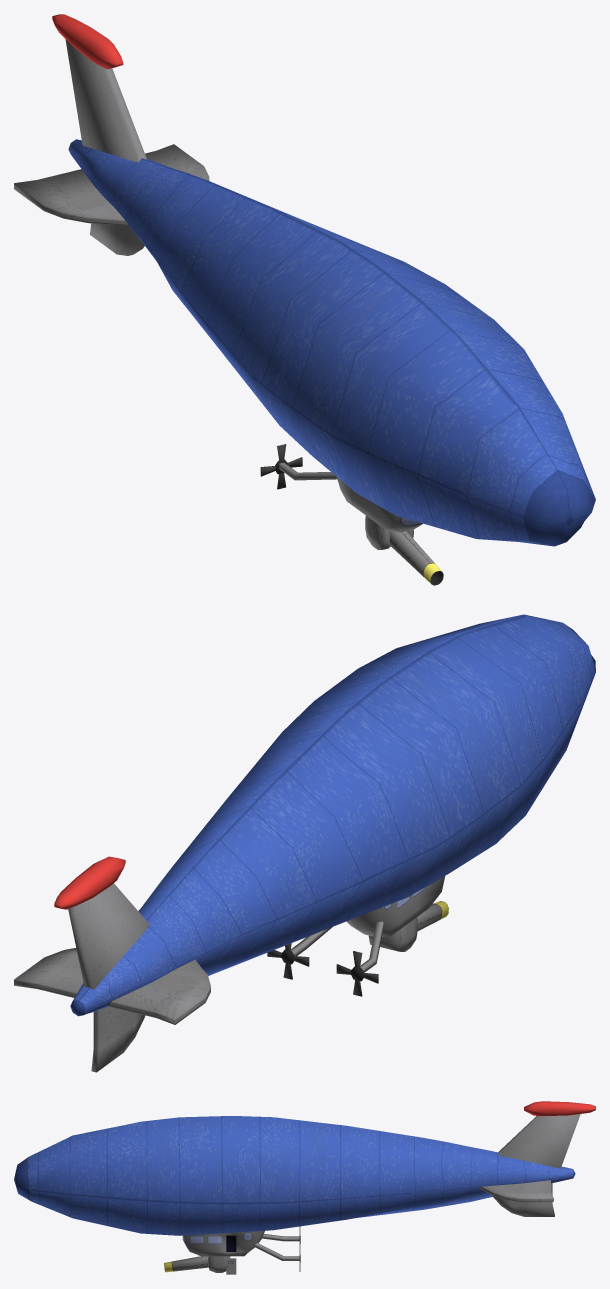
File: dirigivel.fbx
3 renders of one model, top to bottom at view 1: azimuth 30°, elevation 25°; view 2: azimuth 150°, elevation 25°; view 3: azimuth 270°, elevation 25°, orthographic. The views are drawn at different scales.
Visible parts, largest first — view 1: Sphere, Sphere.003; view 2: Sphere, Sphere.002; view 3: Sphere, Sphere.003.
Boxes of the visible parts, x1,y1,x2,y2 form: Sphere: [14, 14, 595, 549]; Sphere.003: [389, 530, 443, 585]; Sphere: [14, 614, 595, 1072]; Sphere.002: [336, 951, 378, 996]; Sphere: [14, 1101, 595, 1272]; Sphere.003: [164, 1256, 208, 1272].
Size of the model in its own units: 126 by 181 by 563.
Materials: 7 (5 with a texture image).
